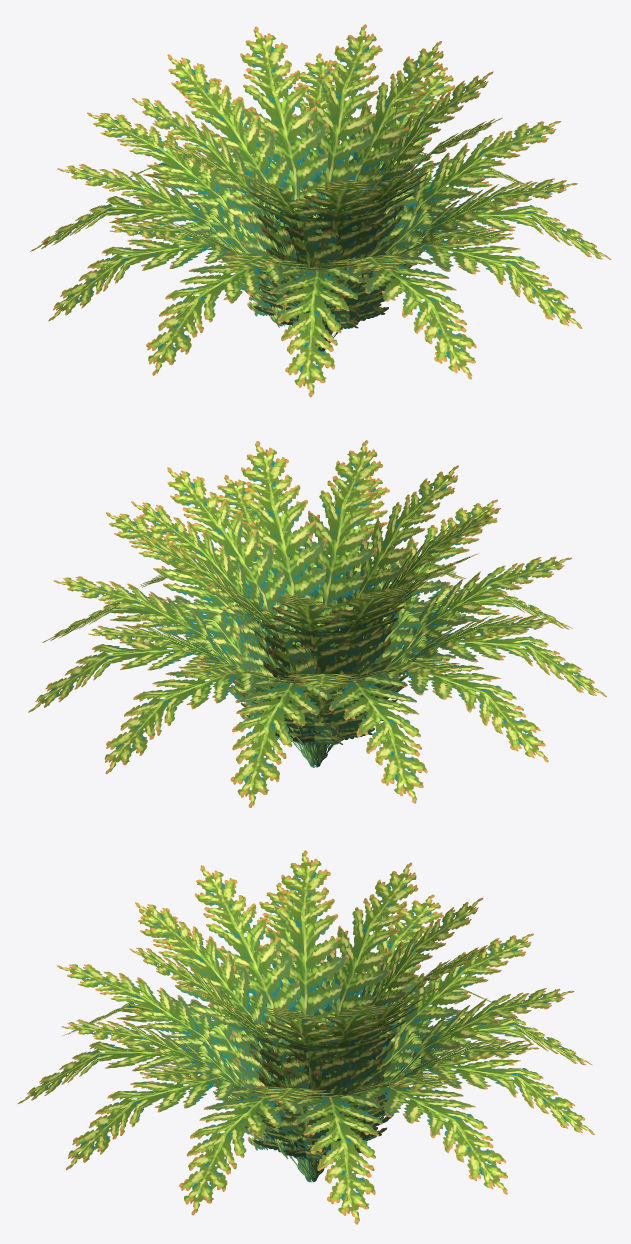
The model's file is Fern2.fbx.
3 renders of one model, top to bottom at view 1: azimuth 30°, elevation 25°; view 2: azimuth 150°, elevation 25°; view 3: azimuth 270°, elevation 25°, orthographic.
Parts seen in each view (by area): view 1: Fern2Comb; view 2: Fern2Comb; view 3: Fern2Comb.
Part boxes in pixels (left/top/right/bottom): Fern2Comb: left=30, top=24, right=611, bottom=397; Fern2Comb: left=28, top=440, right=606, bottom=807; Fern2Comb: left=18, top=850, right=594, bottom=1224.
Size of the model in its own units: 62.3 by 29.12 by 62.16.
